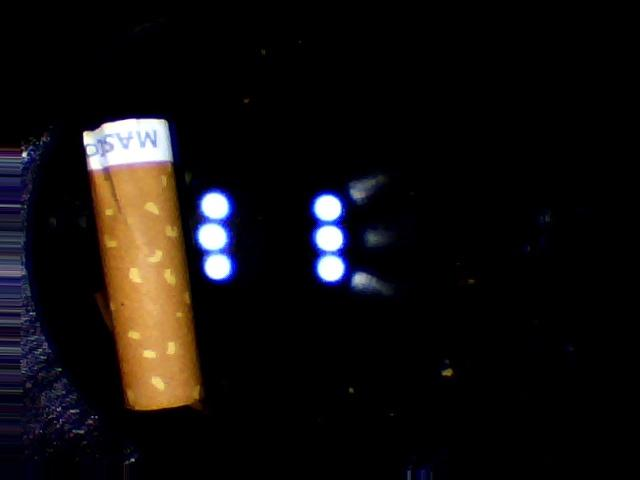megot: (75, 102, 211, 426)
